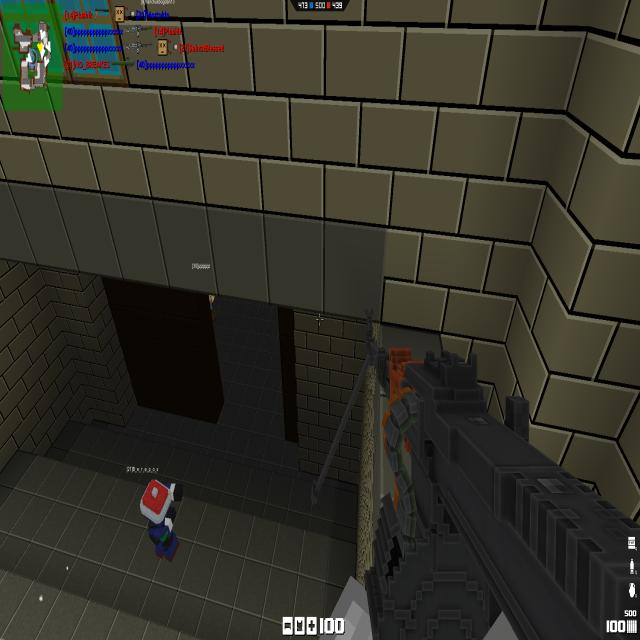player: (141, 476, 183, 562), (209, 296, 216, 320)
